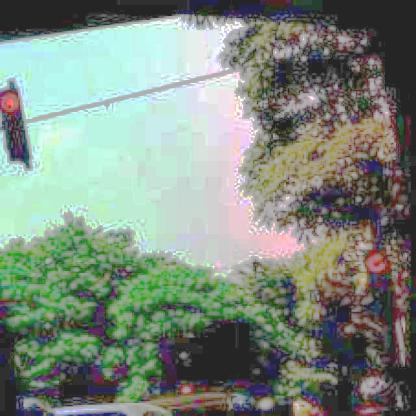Traffic Light -Red-: (359, 240, 403, 321), (0, 83, 36, 165)
